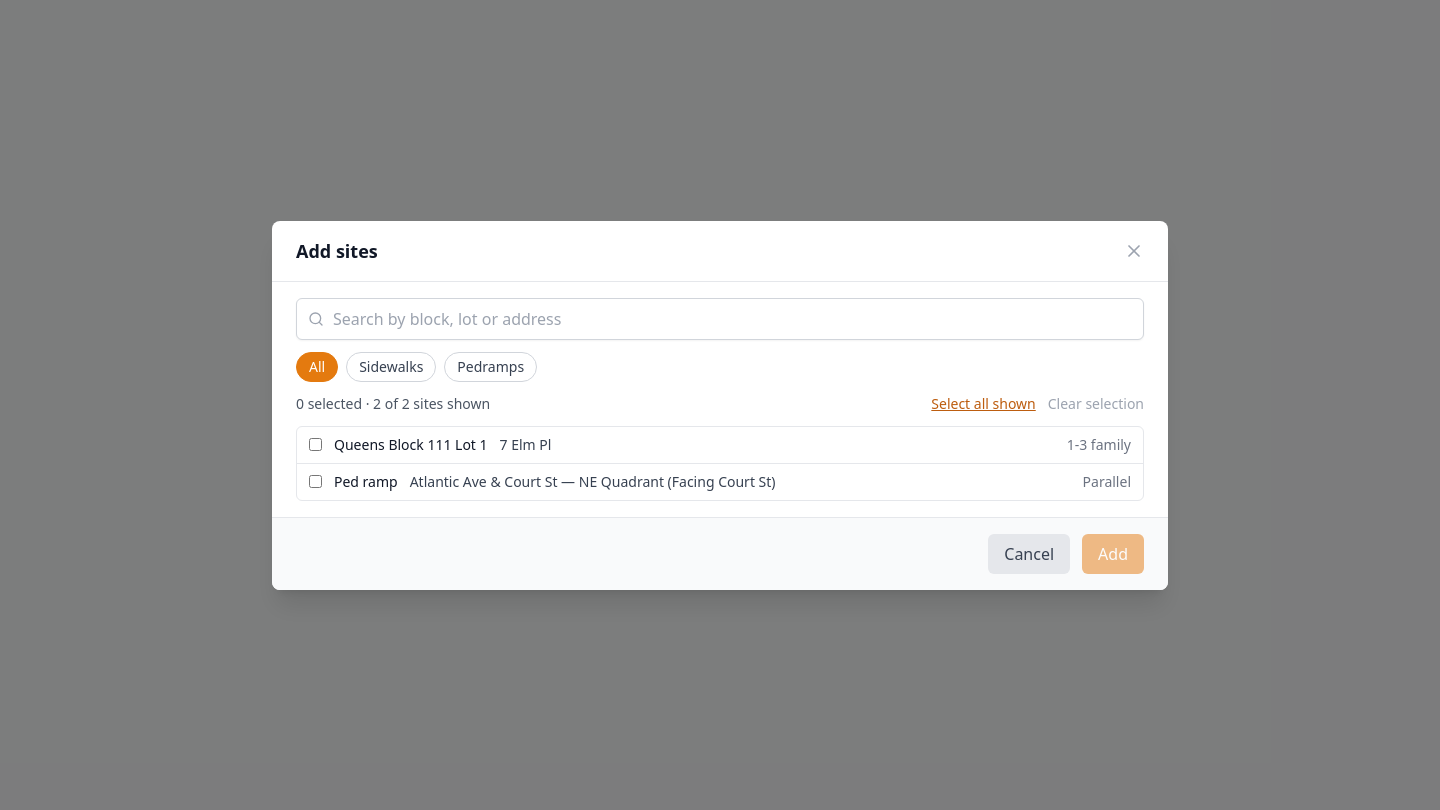
it: PropertyPickerModal › lists a ped ramp by its intersection and ramp type, and finds it by a street
Type "court" into the search field labelled "Search by block, lot or address" at (720, 318), box [296,298,1144,340]
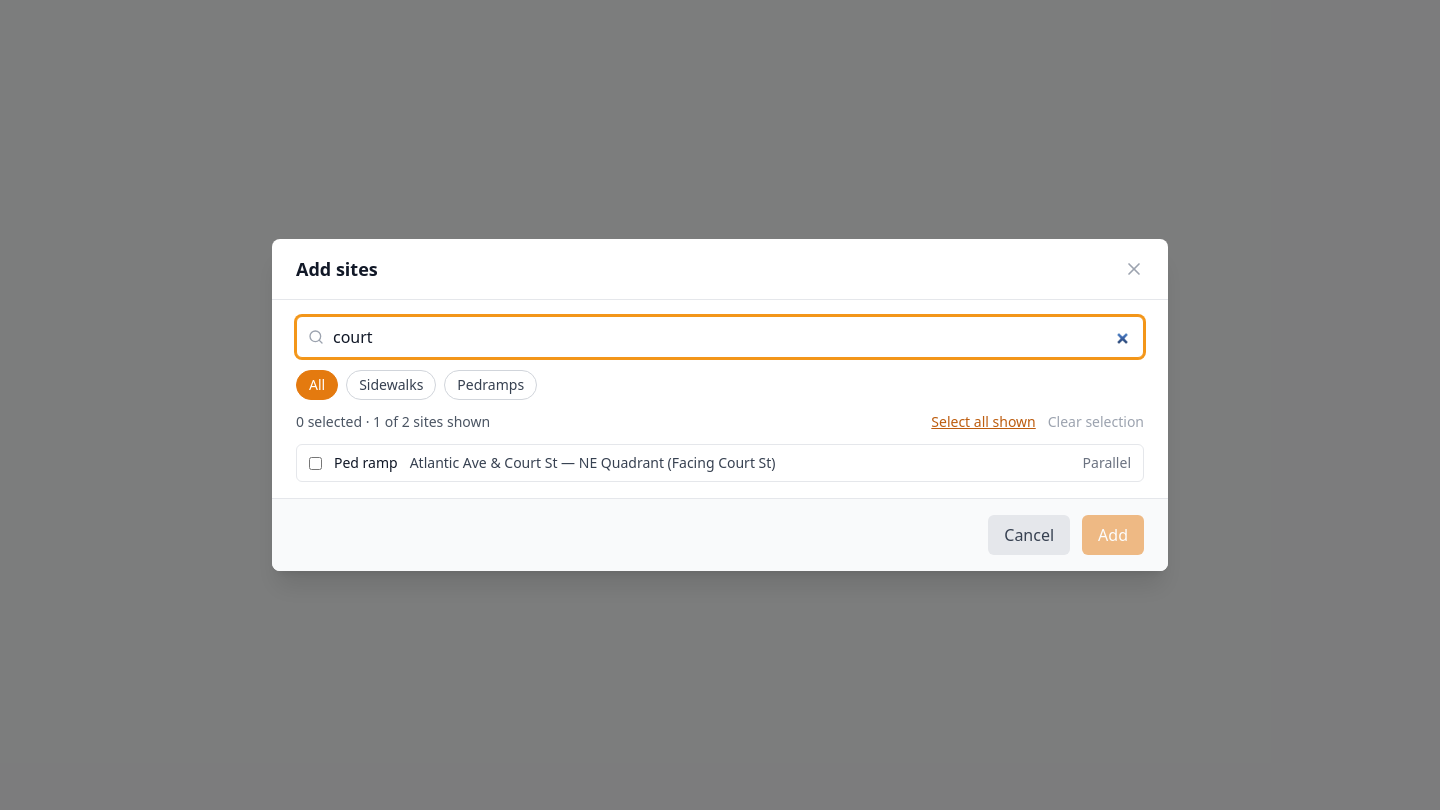
Expected: the label reads "Ped ramp Atlantic Ave & Court St — NE Quadrant (Facing Court St) Parallel", [309,453,1131,472]
Expected: the number of checkboxes is 1, [309,456,322,470]
